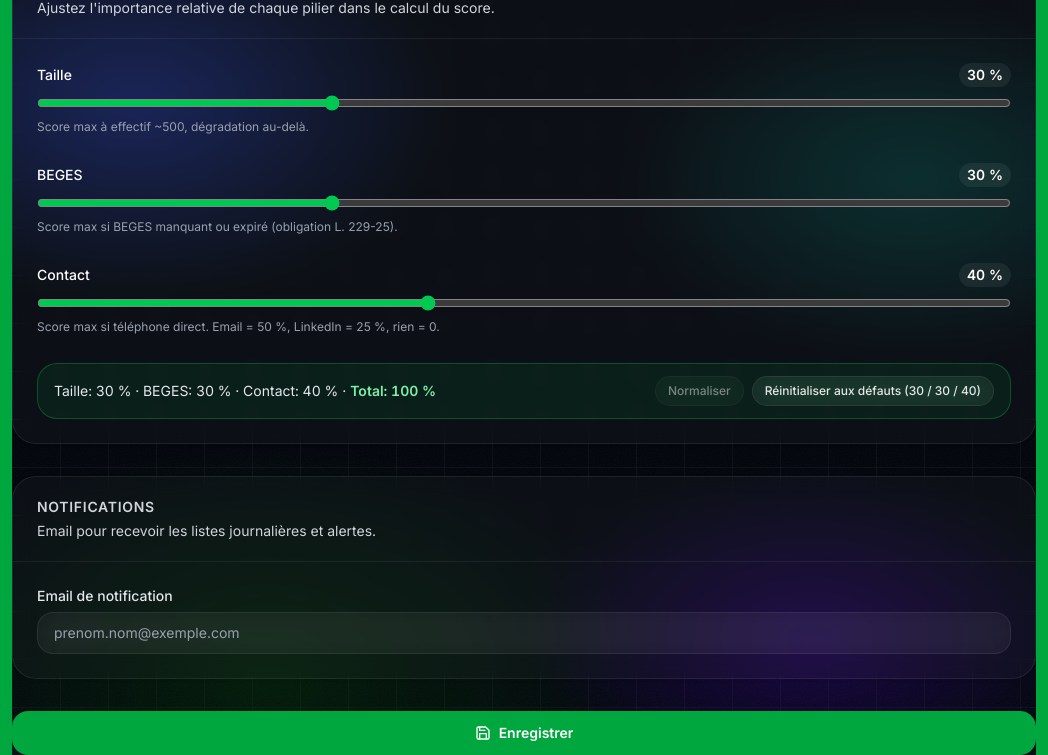
SettingsForm — soumission › affiche une erreur si l'API retourne 500
The image size is (1048, 755).
(page scrolled)
Click the button with aria-label "Sauvegarder les paramètres". click: click(524, 733)
box: [12, 711, 1036, 754]
(page scrolled)
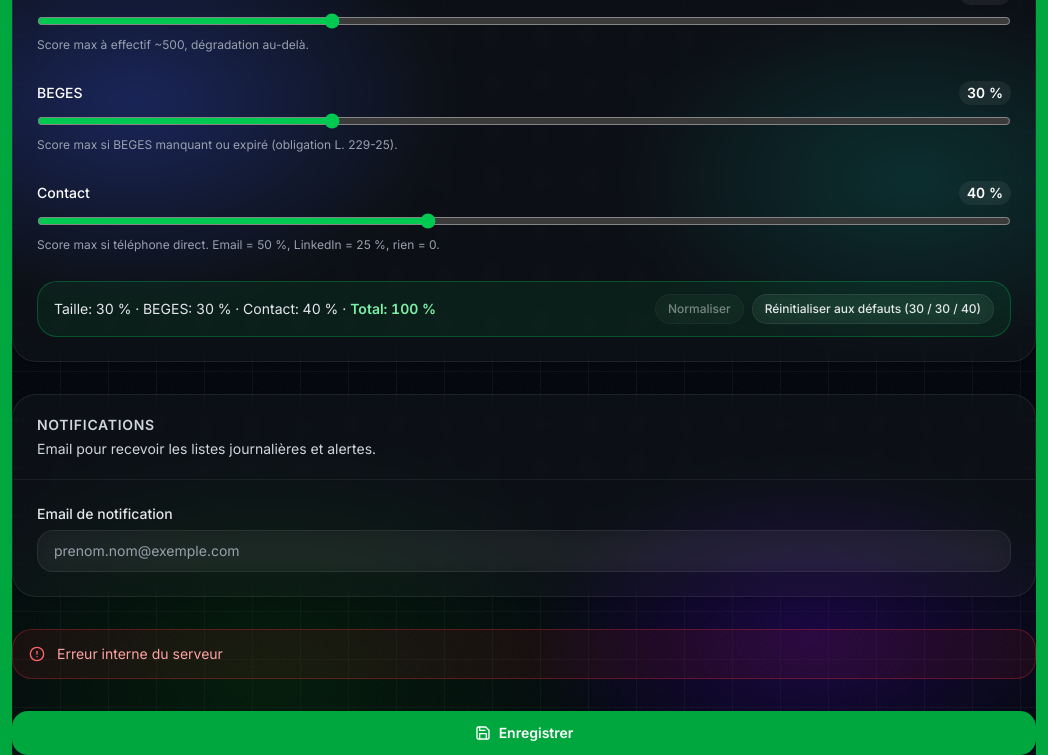
Expected: the message reads "Erreur interne du serveur", [57, 645, 223, 662]
